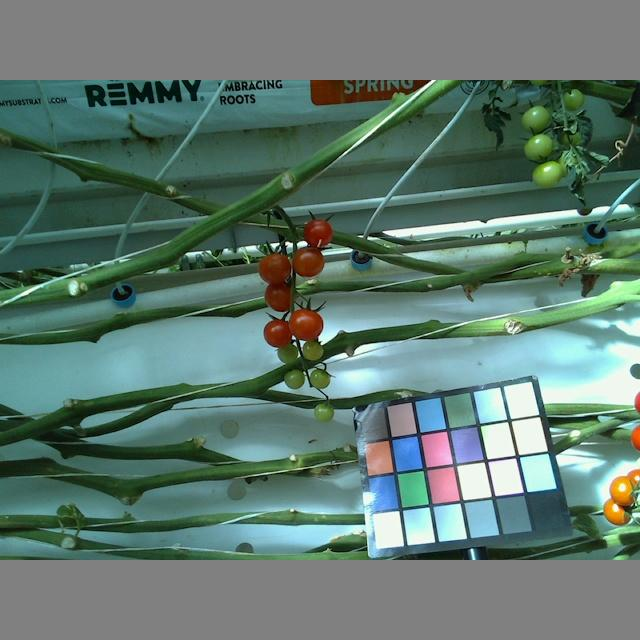green: (532, 160, 563, 188), (522, 106, 550, 134), (523, 136, 554, 161), (309, 368, 330, 388), (299, 341, 322, 357), (315, 403, 336, 420), (563, 90, 583, 107), (278, 348, 299, 364), (286, 371, 303, 387)
pink: (608, 470, 640, 503), (257, 251, 292, 281), (294, 246, 323, 281), (292, 310, 324, 340), (264, 283, 293, 311), (604, 500, 634, 526), (262, 320, 291, 345), (309, 219, 333, 247), (630, 424, 640, 454), (633, 391, 640, 414)
